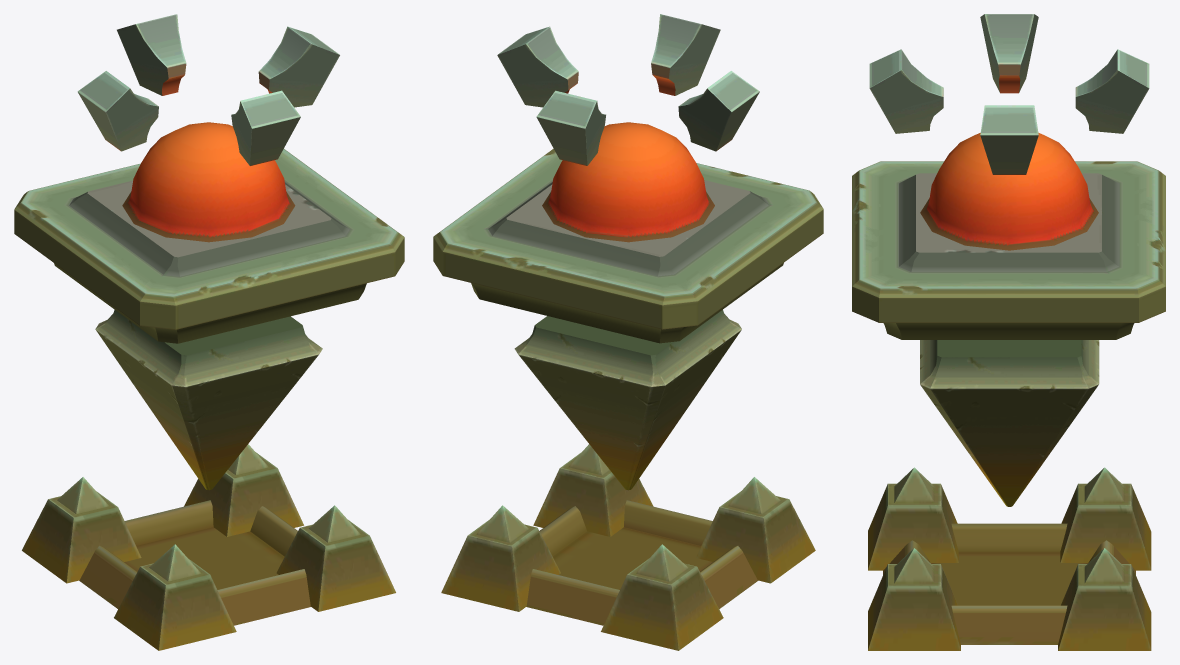
The model's file is fire_tower.fbx.
3 renders of one model, left to right at view 1: azimuth 30°, elevation 25°; view 2: azimuth 150°, elevation 25°; view 3: azimuth 270°, elevation 25°, orthographic. The views are drawn at different scales.
Visible parts, largest first — view 1: fire_base2, fire_core, fire_base1, fire_stones; view 2: fire_base2, fire_core, fire_base1, fire_stones; view 3: fire_base2, fire_core, fire_base1, fire_stones.
Part boxes in pixels (x1,y1,x2,y2): fire_base2: (14, 122, 404, 343); fire_core: (22, 444, 395, 650); fire_base1: (95, 310, 322, 490); fire_stones: (77, 14, 339, 165); fire_base2: (433, 122, 823, 343); fire_core: (441, 444, 815, 650); fire_base1: (514, 310, 741, 490); fire_stones: (497, 14, 759, 165); fire_base2: (852, 132, 1165, 339); fire_core: (868, 467, 1151, 650); fire_base1: (920, 340, 1099, 506); fire_stones: (869, 14, 1149, 174).
Size of the model in its own units: 18.46 by 34.3 by 18.34.
Materials: 1 (1 with a texture image).
